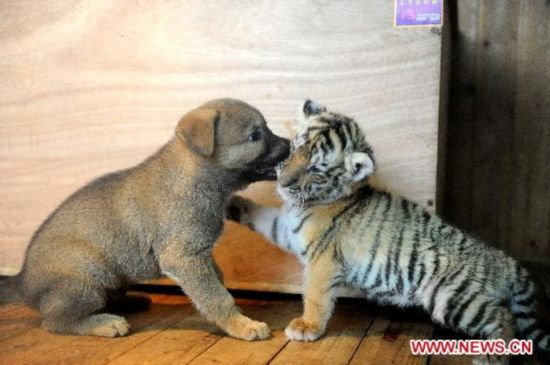dog: (8, 96, 292, 342)
tiger: (231, 98, 550, 339)
